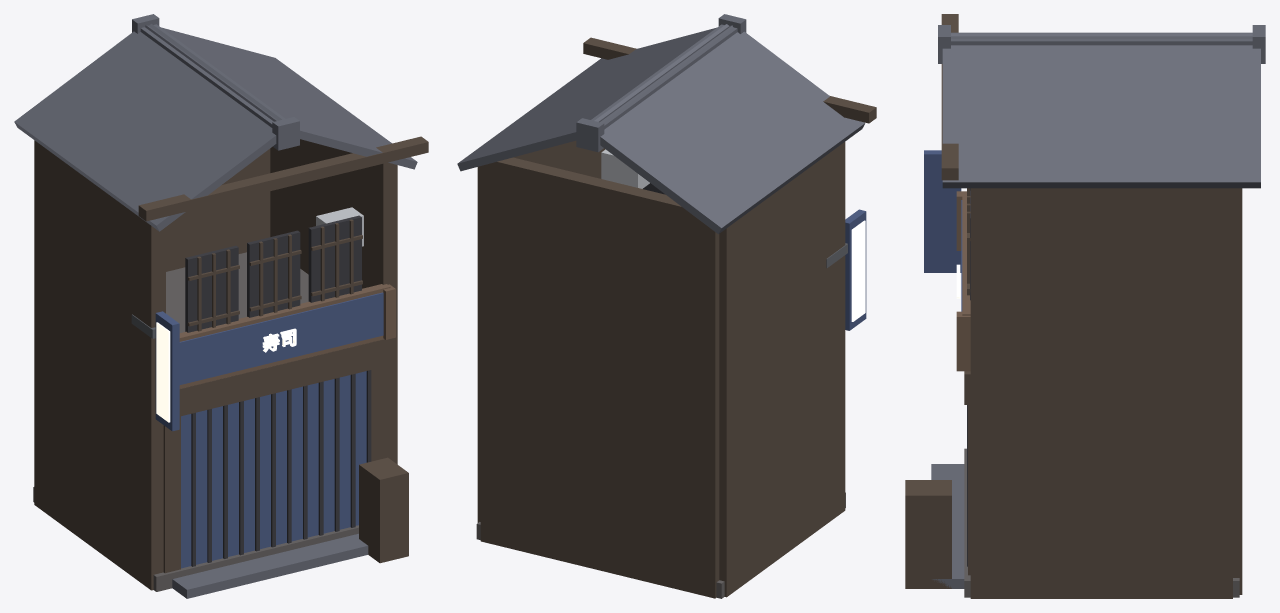
File: prop_shop_sushi_closed.glb
The picture shows the model from 3 angles, left to right: view 1: azimuth 30°, elevation 25°; view 2: azimuth 150°, elevation 25°; view 3: azimuth 270°, elevation 25°; orthographic projection. The views are drawn at different scales.
Visible parts, largest first — view 1: shop_sushi_closed; view 2: shop_sushi_closed; view 3: shop_sushi_closed.
Boxes of the visible parts, box(x1,y1,x2,y2) form: shop_sushi_closed: box(14, 14, 428, 598); shop_sushi_closed: box(457, 14, 876, 598); shop_sushi_closed: box(905, 14, 1265, 598).
Bounding box in the file's own units: 3.9 × 5.9 × 3.85.
